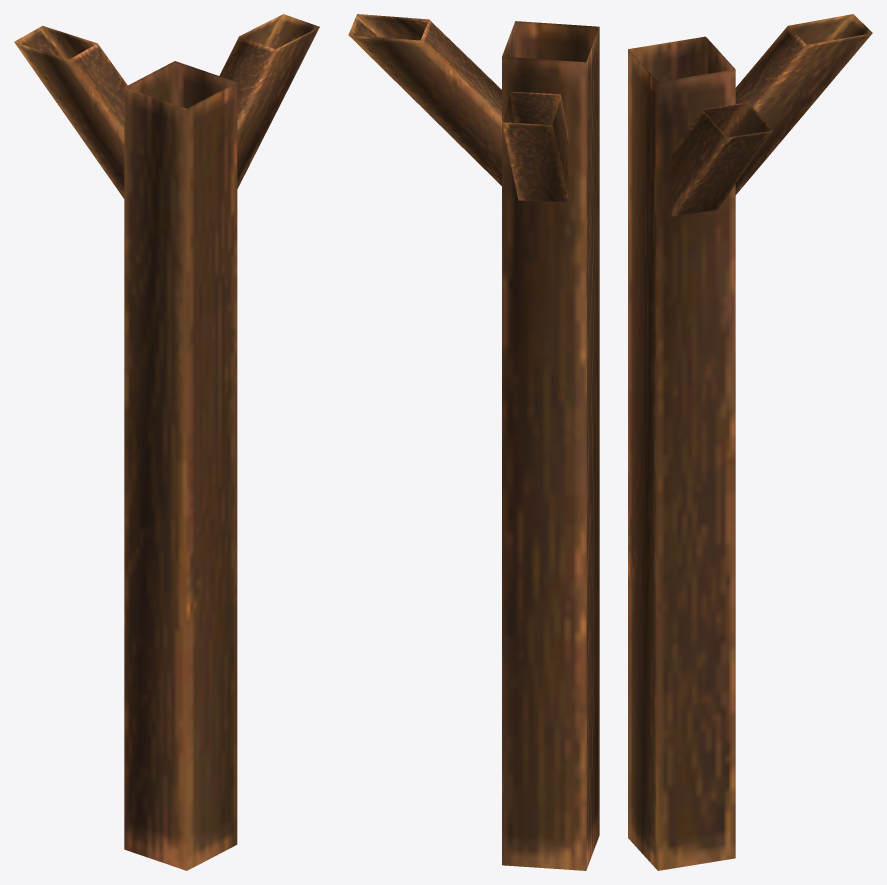
The model's file is SWORDLIGHT20_JAILPLATSUPPORT67.fbx.
3 views of the same model, side by side, from view 1: azimuth 30°, elevation 25°; view 2: azimuth 150°, elevation 25°; view 3: azimuth 270°, elevation 25° (orthographic). The views are drawn at different scales.
Parts seen in each view (by area): view 1: SWORDLIGHT20_JAILPLATSUPPORT67; view 2: SWORDLIGHT20_JAILPLATSUPPORT67; view 3: SWORDLIGHT20_JAILPLATSUPPORT67.
Boxes of the visible parts, bbox=[...] form: SWORDLIGHT20_JAILPLATSUPPORT67: bbox=[14, 14, 319, 870]; SWORDLIGHT20_JAILPLATSUPPORT67: bbox=[348, 14, 599, 870]; SWORDLIGHT20_JAILPLATSUPPORT67: bbox=[628, 14, 872, 870].
Bounding box in the file's own units: 14060 × 41980 × 11759.
Materials: 1 (1 with a texture image).
